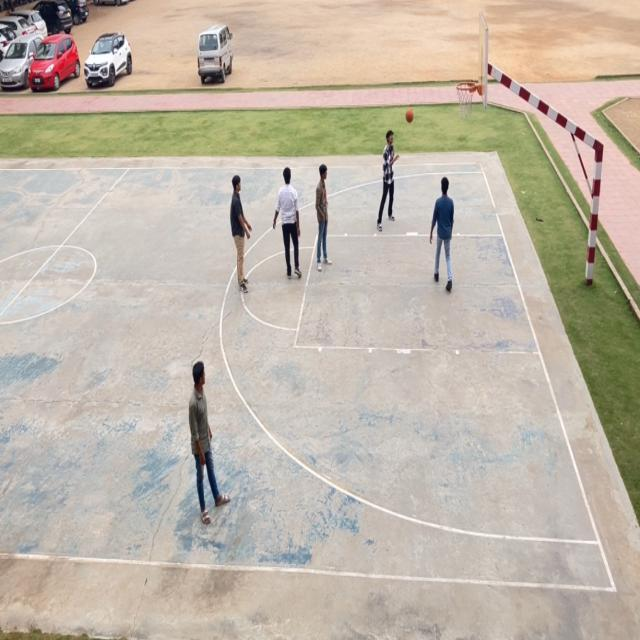basketball: (406, 108, 414, 125)
hoop: (456, 81, 476, 119)
